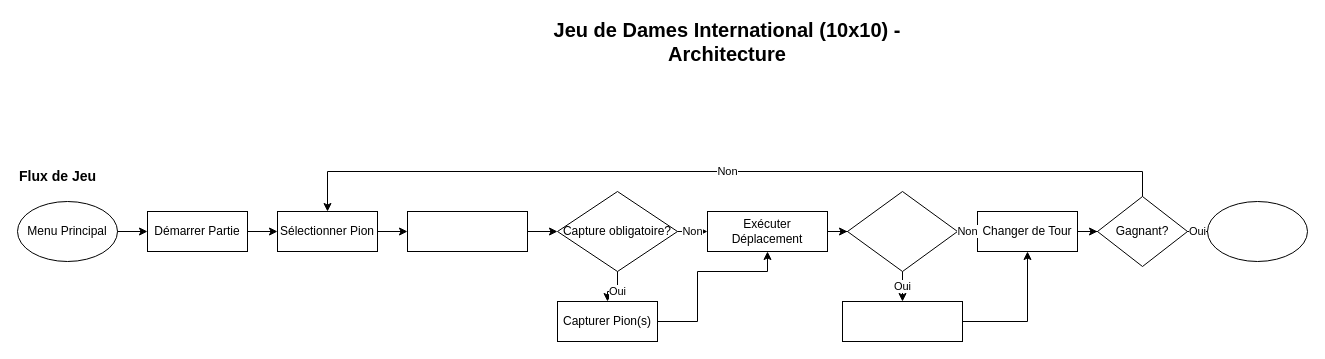
The diagram is 1325 pixels wide and 359 high, and some of its shapes have lost their labels. The shapes that lost their labels are listed below. From the top down, each one's centre as x and y in pixels, then its label:
At [467,231]: "Afficher Coups Valides".
At [902,231]: "Promotion en Reine?".
At [1257,231]: "Fin de Partie".
At [902,321]: "Transformer en Reine".
